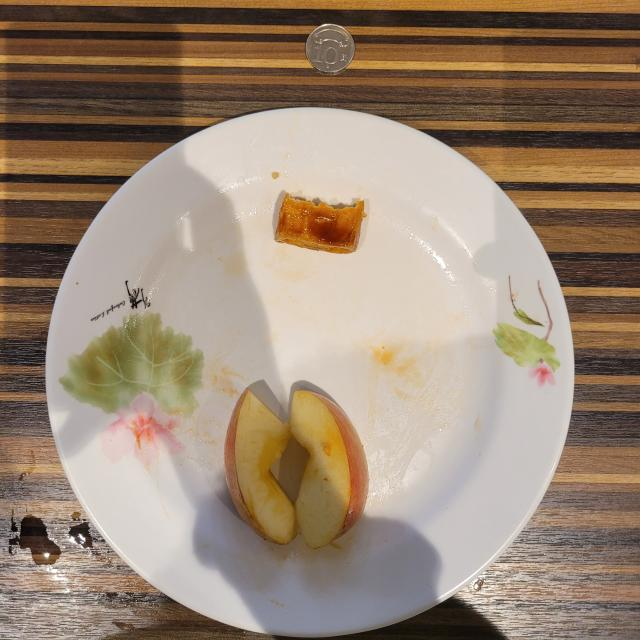apple -sliced-: (225, 389, 369, 549)
coin: (305, 24, 355, 75)
creamy tofu: (275, 194, 364, 254)
